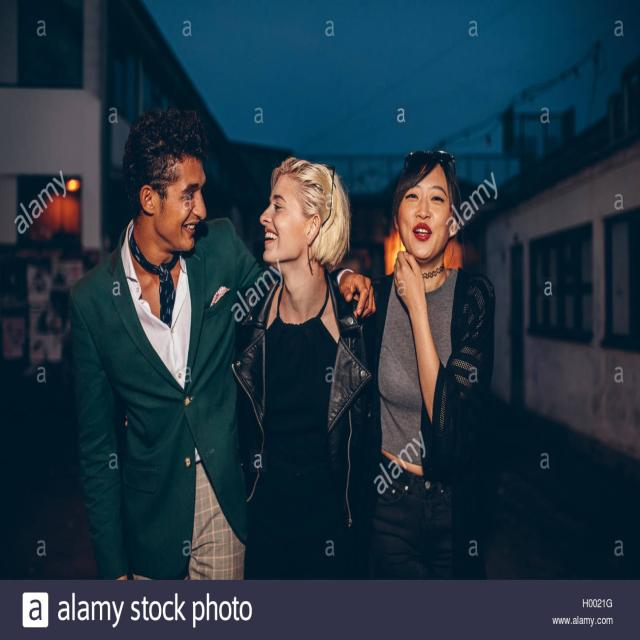body: (67, 102, 376, 579), (232, 154, 382, 580), (355, 147, 499, 581)
